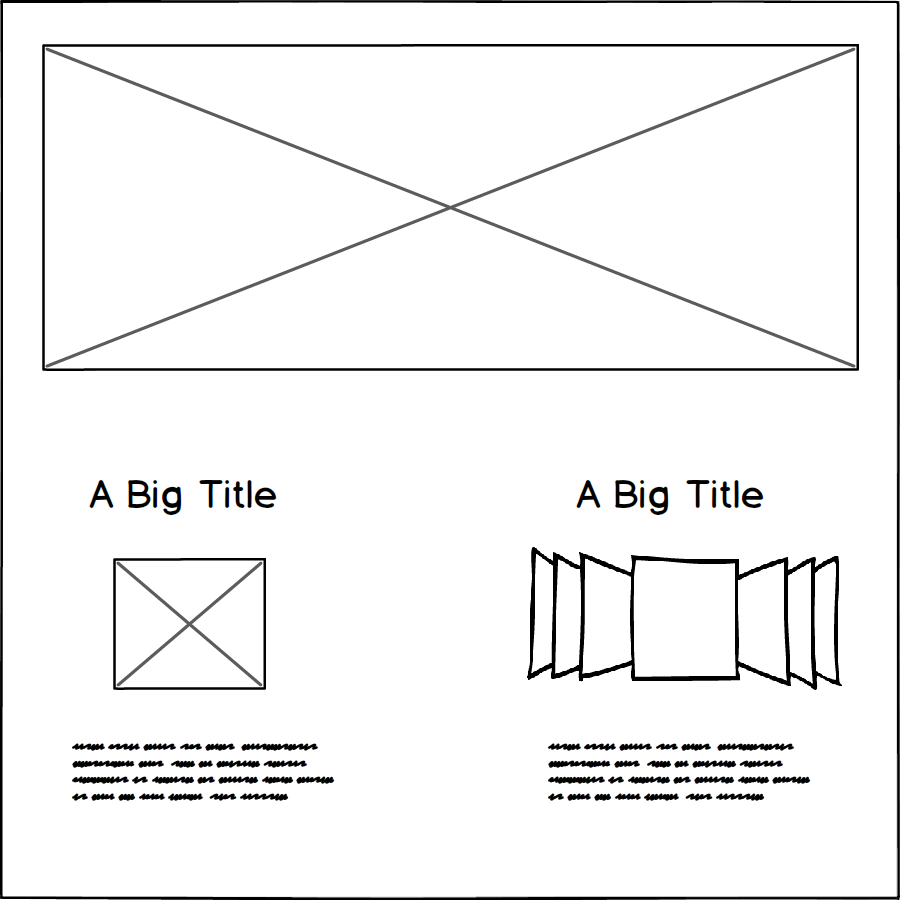h1: (572, 460, 775, 528), (76, 463, 285, 519)
image: (38, 34, 864, 380), (109, 554, 274, 693)
p: (71, 730, 348, 814), (538, 736, 816, 810)
slideshow: (522, 536, 860, 697)
